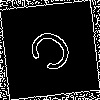C: (25, 25, 83, 82)
